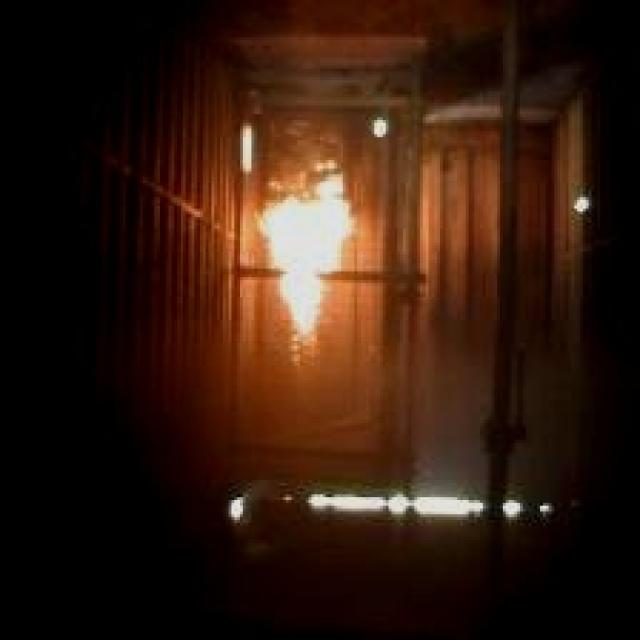fire: (255, 166, 372, 351)
